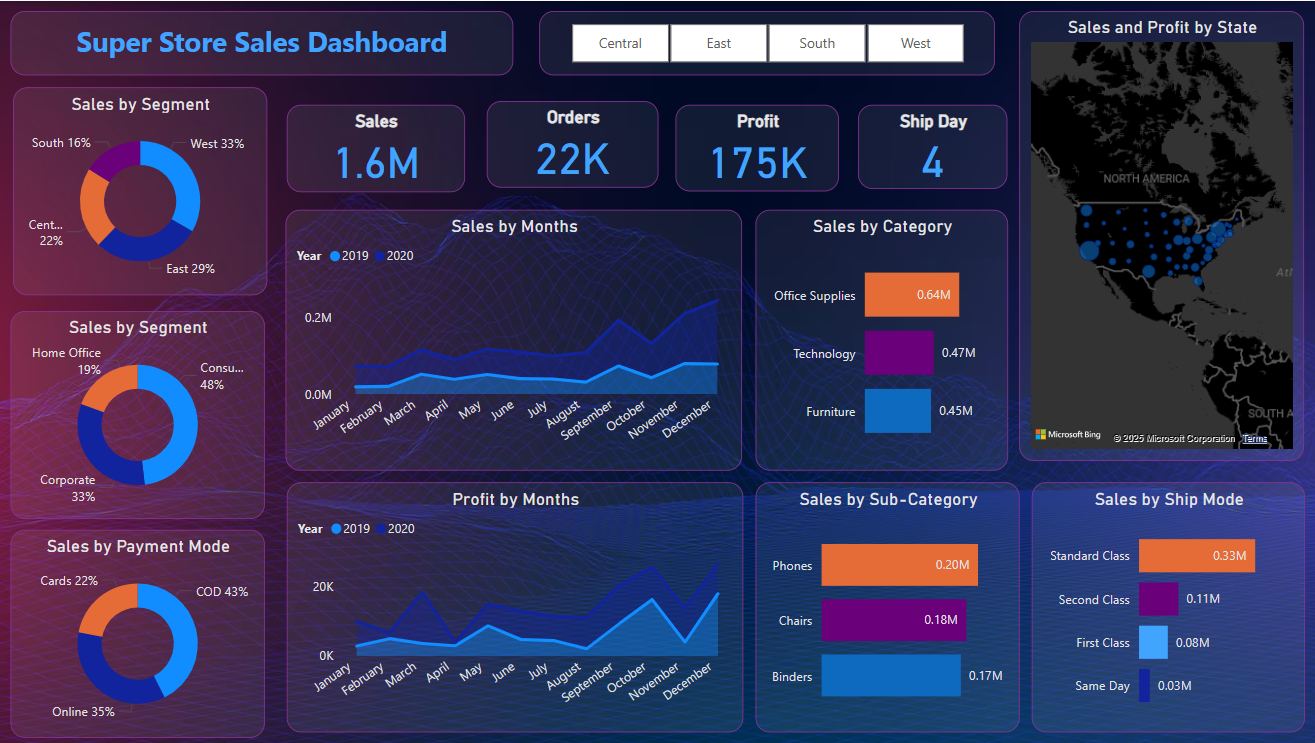

This screenshot's page, from the dashboard's own definition file:
{"tool":"powerbi","page":{"name":"super store sales 1","canvas":[1280,720],"ordinal":0},"visuals":[{"type":"clusteredBarChart","title":"Sales by Category","fields":{"Category":["SuperStore_Sales_Dataset.Category"],"Y":["Sum(SuperStore_Sales_Dataset.Sales)"]},"box":[733.8,202.5,245,252.5],"z":0},{"type":"clusteredBarChart","title":"Sales by Sub-Category","fields":{"Y":["Sum(SuperStore_Sales_Dataset.Sales)"],"Category":["SuperStore_Sales_Dataset.Sub-Category"]},"box":[733.8,466.2,256.2,242.5],"z":1000},{"type":"clusteredBarChart","title":"Sales by Ship Mode","fields":{"Y":["Sum(SuperStore_Sales_Dataset.Sales)"],"Category":["SuperStore_Sales_Dataset.Ship Mode"]},"box":[1001.2,466.2,265,242.5],"z":2000},{"type":"stackedAreaChart","title":"Sales by Months","fields":{"Category":["SuperStore_Sales_Dataset.Order Date.Variation.Date Hierarchy.Month"],"Y":["Sum(SuperStore_Sales_Dataset.Sales)"],"Series":["SuperStore_Sales_Dataset.Order Date.Variation.Date Hierarchy.Year"]},"box":[278.8,202.5,442.5,252.5],"z":3000},{"type":"stackedAreaChart","title":"Profit by Months","fields":{"Category":["SuperStore_Sales_Dataset.Order Date.Variation.Date Hierarchy.Month"],"Series":["SuperStore_Sales_Dataset.Order Date.Variation.Date Hierarchy.Year"],"Y":["Sum(SuperStore_Sales_Dataset.Profit)"]},"box":[280,466.2,442.5,242.5],"z":4000},{"type":"map","title":"Sales and Profit by State","fields":{"Category":["SuperStore_Sales_Dataset.State"],"Size":["Sum(SuperStore_Sales_Dataset.Sales)"]},"box":[990,10,276.2,436.2],"z":4001},{"type":"donutChart","title":"Sales by Segment","fields":{"Category":["SuperStore_Sales_Dataset.Segment"],"Y":["Sum(SuperStore_Sales_Dataset.Sales)"]},"box":[12.5,300,246.2,201.2],"z":4002},{"type":"donutChart","title":"Sales by Payment Mode","fields":{"Y":["Sum(SuperStore_Sales_Dataset.Sales)"],"Category":["SuperStore_Sales_Dataset.Payment Mode"]},"box":[12.5,512.5,246.2,201.2],"z":4003},{"type":"slicer","fields":{"Values":["SuperStore_Sales_Dataset.Region"]},"box":[525,10,441.2,62.5],"z":4004},{"type":"textbox","box":[12.5,10,487.5,62.5],"z":4005},{"type":"card","title":"Sales","fields":{"Values":["Sum(SuperStore_Sales_Dataset.Sales)"]},"box":[280,100,172.5,85],"z":4006},{"type":"card","title":"Orders","fields":{"Values":["Sum(SuperStore_Sales_Dataset.Quantity)"]},"box":[473.8,97.5,166.2,83.8],"z":4007},{"type":"card","title":"Profit","fields":{"Values":["Sum(SuperStore_Sales_Dataset.Profit)"]},"box":[656.2,100,158.8,83.8],"z":4008},{"type":"card","title":"Ship Day","fields":{"Values":["Avg(SuperStore_Sales_Dataset.Avg_Delivery)"]},"box":[833.8,100,145,81.2],"z":4009},{"type":"donutChart","title":"Sales by Segment","fields":{"Y":["Sum(SuperStore_Sales_Dataset.Sales)"],"Category":["SuperStore_Sales_Dataset.Region"]},"box":[15,83.8,246.2,201.2],"z":4010}]}

Visuals, with their boxes in screenshot pixels (x1, y1, x2, y2), scaled from the page's 1280x720 canvas onto the 1315x743 screenshot:
"Sales by Category" clusteredBarChart: detection(754, 209, 1006, 470)
"Sales by Sub-Category" clusteredBarChart: detection(754, 481, 1017, 731)
"Sales by Ship Mode" clusteredBarChart: detection(1029, 481, 1301, 731)
"Sales by Months" stackedAreaChart: detection(286, 209, 741, 470)
"Profit by Months" stackedAreaChart: detection(288, 481, 742, 731)
"Sales and Profit by State" map: detection(1017, 10, 1301, 460)
"Sales by Segment" donutChart: detection(13, 310, 266, 517)
"Sales by Payment Mode" donutChart: detection(13, 529, 266, 736)
slicer - SuperStore_Sales_Dataset.Region: detection(539, 10, 993, 75)
textbox: detection(13, 10, 514, 75)
"Sales" card: detection(288, 103, 465, 191)
"Orders" card: detection(487, 101, 658, 187)
"Profit" card: detection(674, 103, 837, 190)
"Ship Day" card: detection(857, 103, 1006, 187)
"Sales by Segment" donutChart: detection(15, 86, 268, 294)
